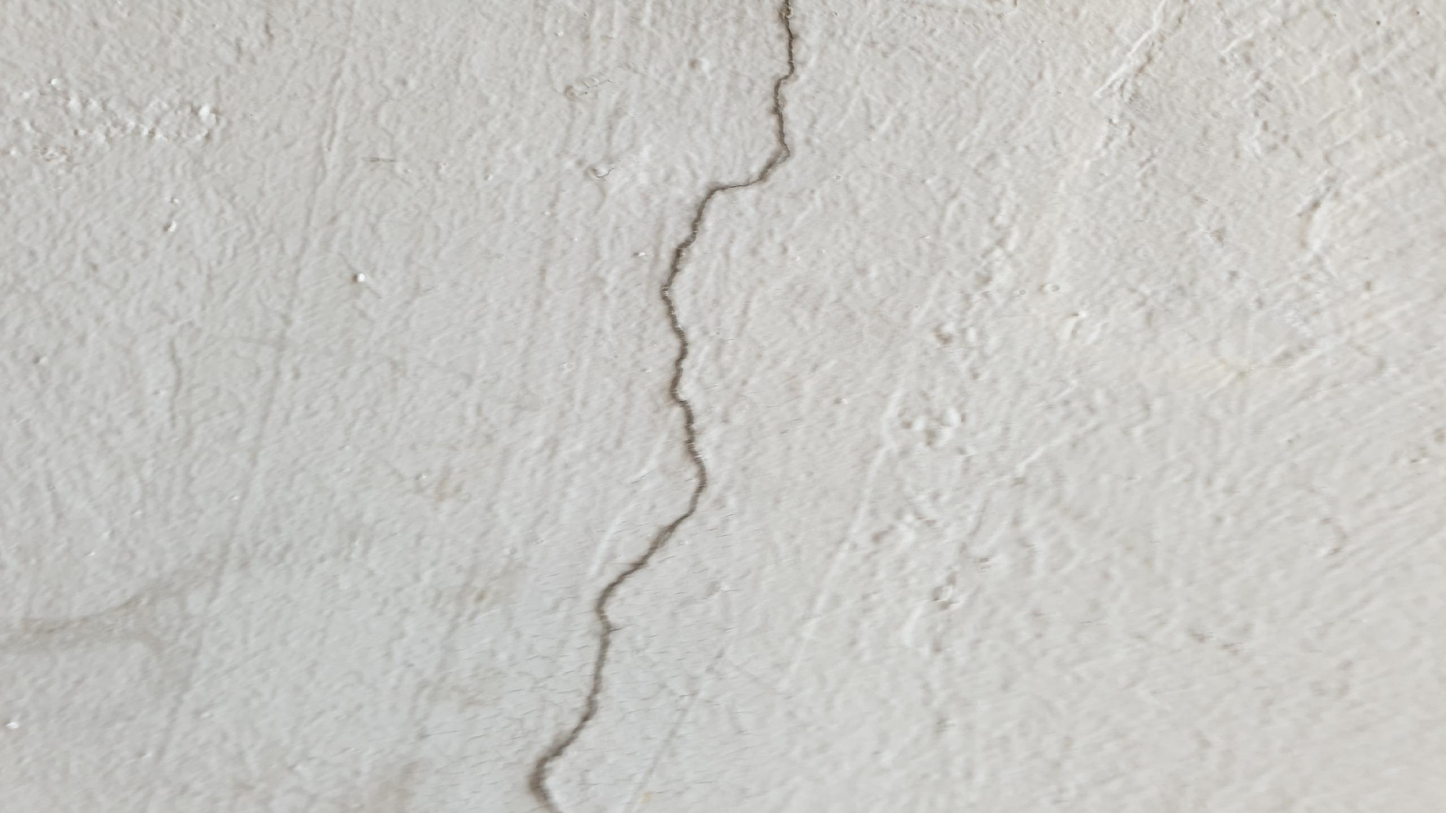crack: (523, 6, 804, 803)
